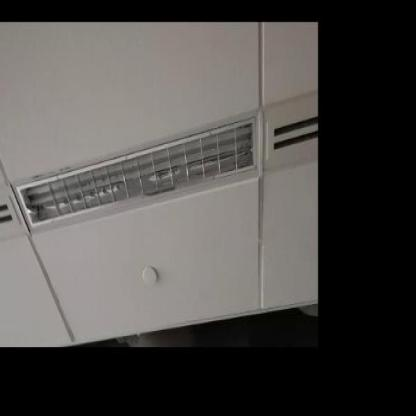light_off: (10, 99, 266, 234)
